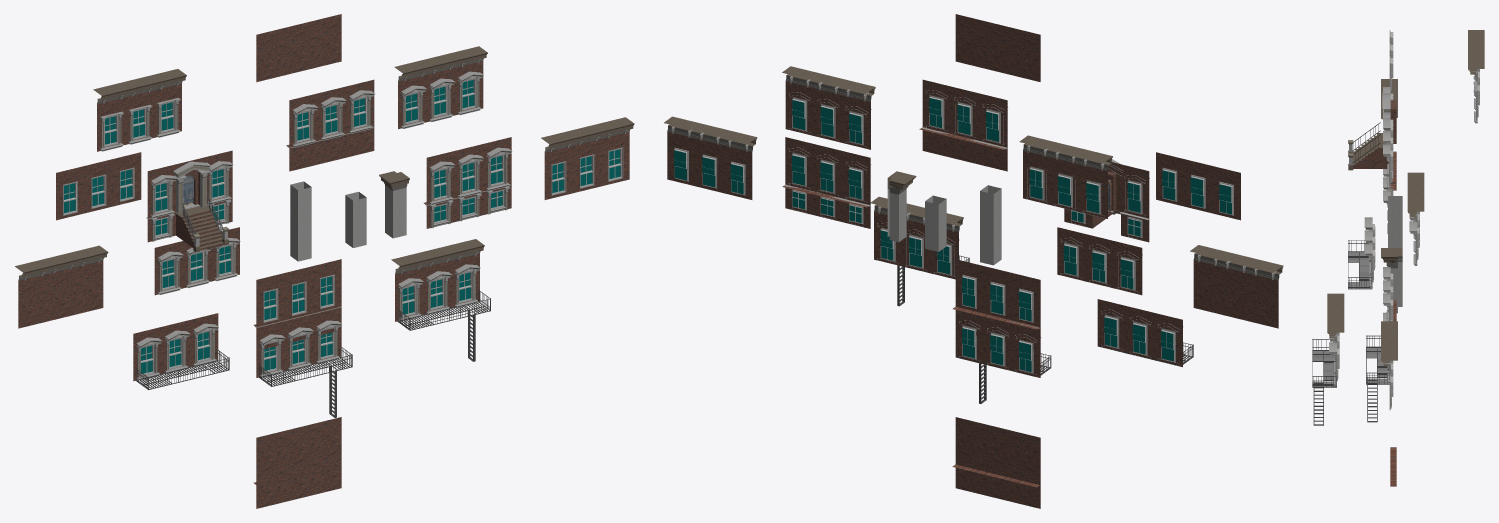
File: Building02.fbx
The picture shows the model from 3 angles, left to right: view 1: azimuth 30°, elevation 25°; view 2: azimuth 150°, elevation 25°; view 3: azimuth 270°, elevation 25°; orthographic projection. The views are drawn at different scales.
Parts seen in each view (by area): view 1: Building02_WallBottom_A, Building02_WallTop_B, Building02_WallBottom_B, Building02_WallBottom_D, Building02_WallBottom_C, Building02_WallTop_A, Building02_WallTop_C, Building02_WallTop_E, Building02_WallTop_D, Building02_Wall_B, Building02_Wall_C, Building02_WallBottom_E (+6 smaller); view 2: Building02_WallBottom_B, Building02_WallBottom_C, Building02_WallBottom_D, Building02_WallTop_A, Building02_WallTop_D, Building02_WallTop_E, Building02_WallTop_C, Building02_WallBottom_E, Building02_Wall_C, Building02_WallTop_B, Building02_Wall_B, Building02_Wall_A (+6 smaller); view 3: Building02_WallTop_B, Building02_WallBottom_A, Building02_Wall_C, Building02_WallTop_A, Building02_WallTop_C, Building02_Wall_B, Building02_WallTop_E, Building02_CornerTop_A, Building02_WallBottom_C, Building02_CornerBottom_A, Building02_WallBottom_B, Building02_WallTop_D (+3 smaller).
Boxes of the visible parts, x1,y1,x2,y2 form: Building02_WallBottom_A: (146, 150, 233, 252); Building02_WallTop_B: (391, 239, 490, 361); Building02_WallBottom_B: (424, 137, 512, 228); Building02_WallBottom_D: (253, 417, 341, 508); Building02_WallBottom_C: (286, 79, 374, 171); Building02_WallTop_A: (394, 46, 487, 129); Building02_WallTop_C: (93, 69, 186, 151); Building02_WallTop_E: (541, 117, 634, 199); Building02_WallTop_D: (15, 245, 108, 328); Building02_Wall_B: (256, 310, 352, 417); Building02_Wall_C: (133, 313, 229, 389); Building02_WallBottom_E: (253, 259, 341, 350); Building02_WallBottom_B: (782, 137, 871, 228); Building02_WallBottom_C: (919, 79, 1008, 171); Building02_WallBottom_D: (952, 417, 1040, 508); Building02_WallTop_A: (782, 66, 875, 149); Building02_WallTop_D: (1190, 245, 1283, 328); Building02_WallTop_E: (664, 116, 757, 199); Building02_WallTop_C: (1019, 135, 1112, 218); Building02_WallBottom_E: (953, 259, 1040, 350); Building02_Wall_C: (1097, 299, 1193, 367); Building02_WallTop_B: (870, 196, 969, 306); Building02_Wall_B: (955, 310, 1051, 403); Building02_Wall_A: (1057, 227, 1142, 295); Building02_WallTop_B: (1312, 293, 1344, 425); Building02_WallBottom_A: (1348, 87, 1396, 176); Building02_Wall_C: (1348, 217, 1375, 289); Building02_WallTop_A: (1407, 172, 1424, 265); Building02_WallTop_C: (1468, 30, 1484, 123); Building02_Wall_B: (1366, 312, 1389, 422); Building02_WallTop_E: (1381, 321, 1397, 410); Building02_CornerTop_A: (1381, 248, 1402, 313); Building02_WallBottom_C: (1383, 118, 1396, 191); Building02_CornerBottom_A: (1388, 196, 1402, 243); Building02_WallBottom_B: (1383, 267, 1396, 321); Building02_WallTop_D: (1381, 79, 1397, 119).
Bounding box in the file's own units: 5387 × 3993 × 1394.
